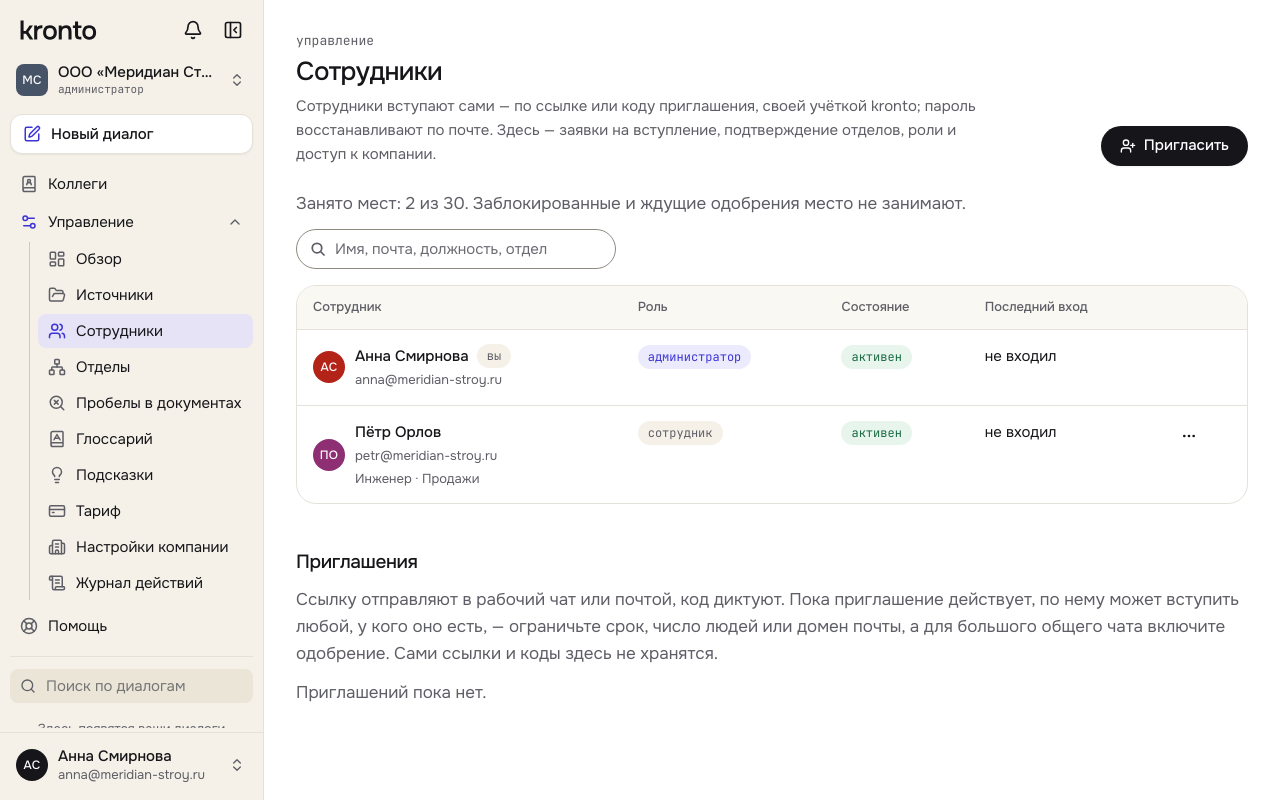
Test: люди компании › должность и отдел: видны под именем, правятся из меню строки
Expected: the text "Инженер · Продажи" is shown, [355,470,479,486]
Click the button named "Действия: Пётр Орлов" at {"x": 1189, "y": 436}, box [1173,420,1205,452]
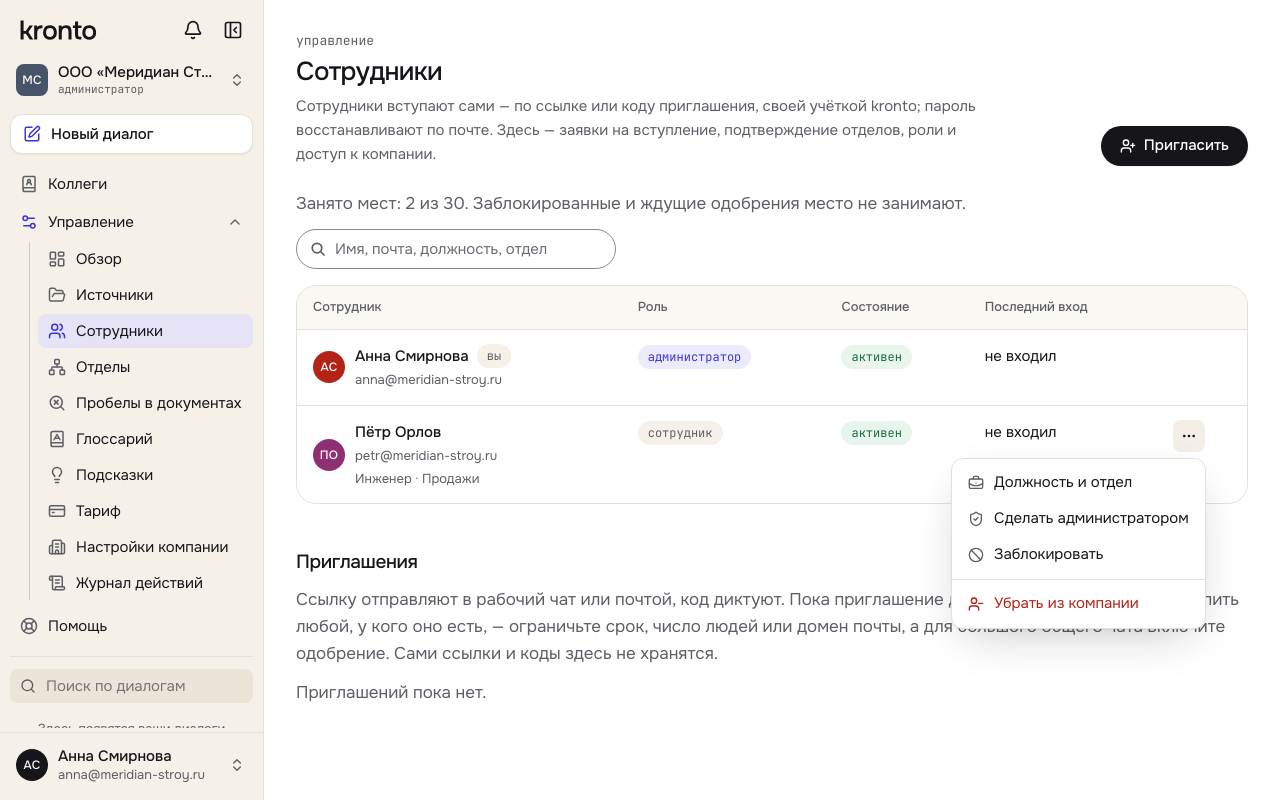
Click the menu item "Должность и отдел" at {"x": 1050, "y": 482}, box [968,472,1132,492]
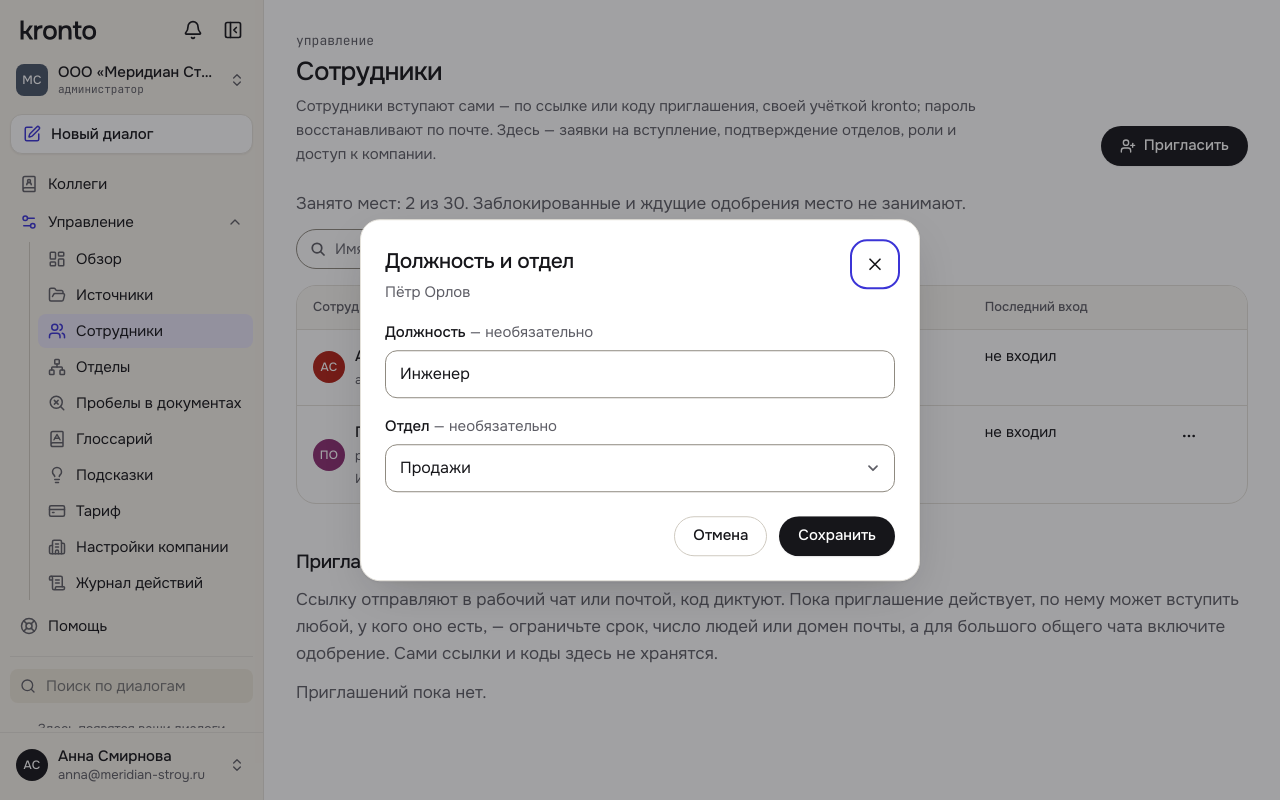
Now the field labelled "Должность — необязательно" holds "Инженер"
Replace the text in the field labelled "Должность — необязательно" with "Ведущий инженер" at {"x": 640, "y": 374}, box [385,350,895,398]
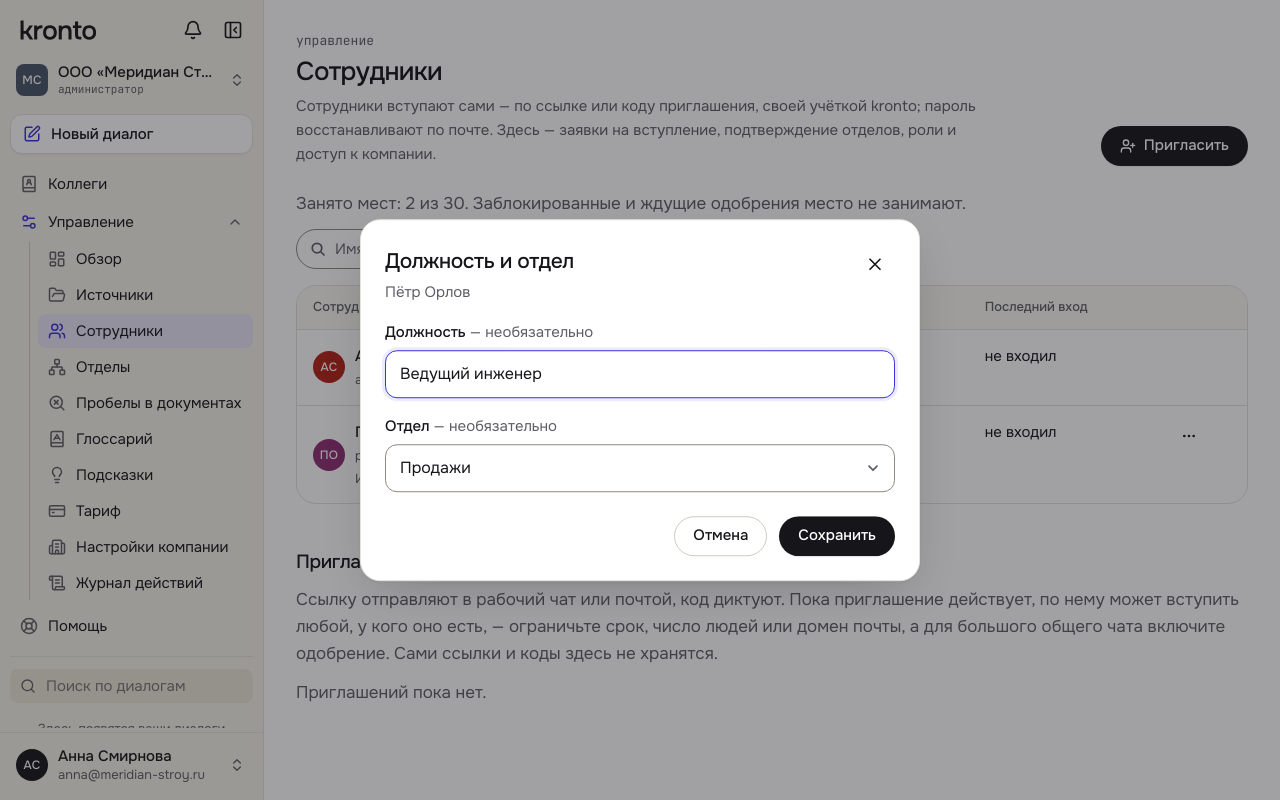
Click the button "Сохранить" at {"x": 837, "y": 536}, box [779,516,895,556]
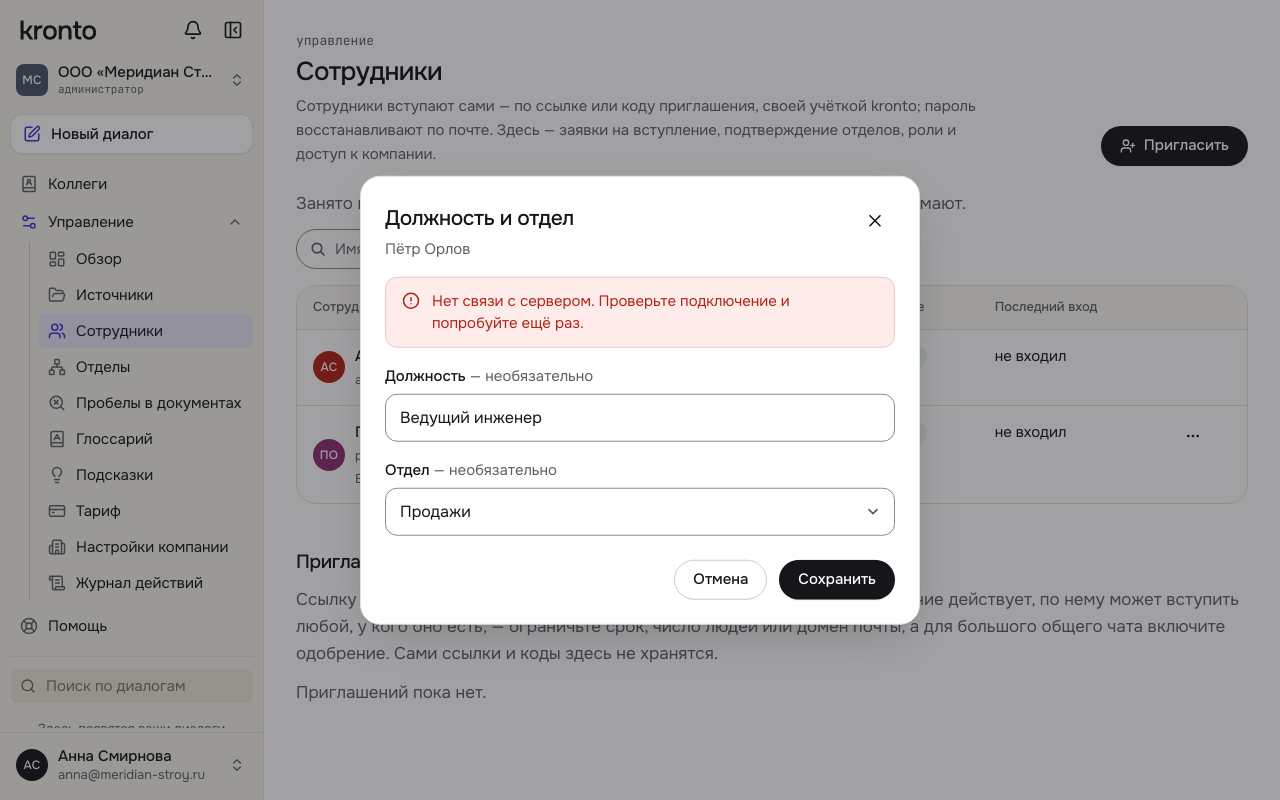
Now the text "Ведущий инженер · Продажи" is shown, box [355,470,538,486]
